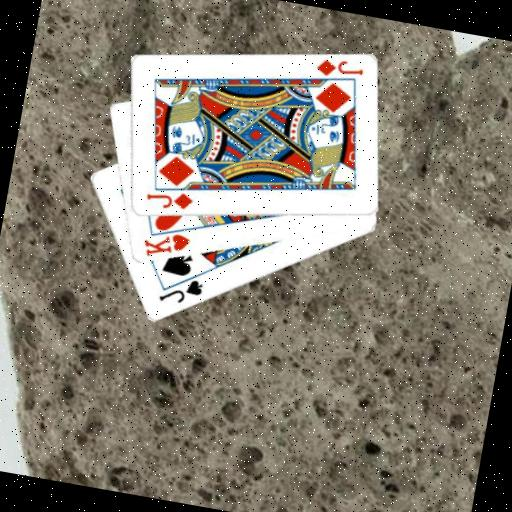JD: (141, 183, 195, 215), (312, 52, 366, 84)
JS: (154, 270, 205, 310)
KH: (138, 225, 193, 265)
